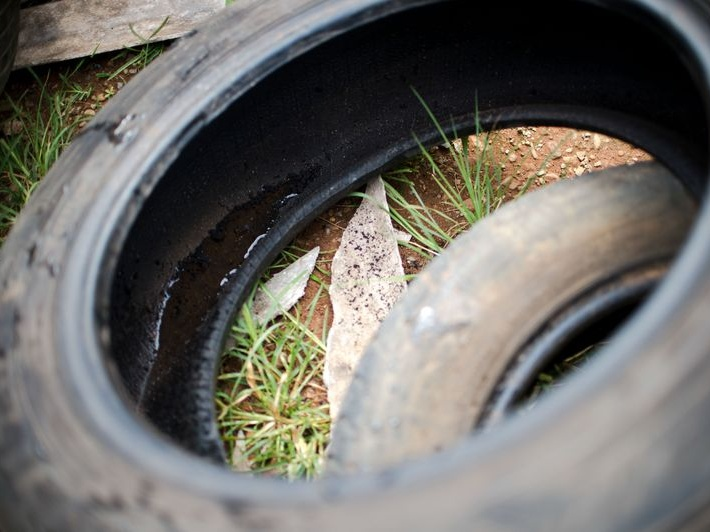tire: (1, 4, 708, 532)
